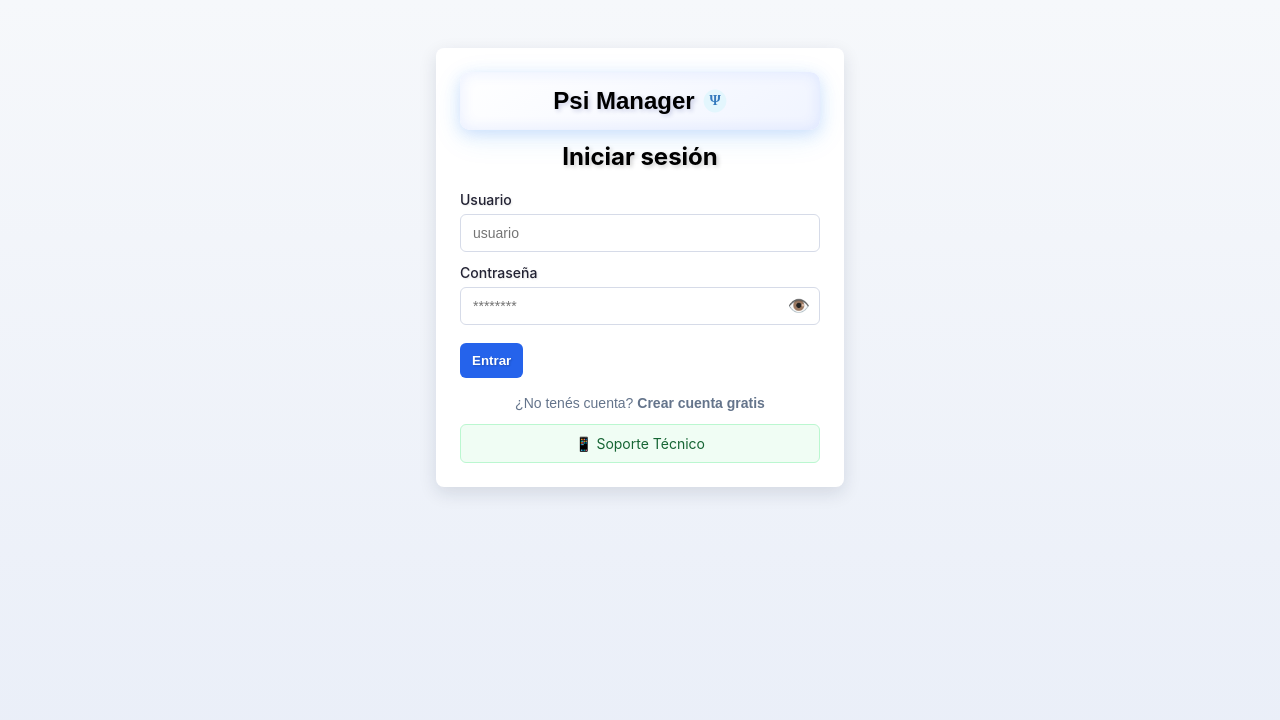
Scenario: Login component › shows error for short username
Type "a" into the field with placeholder "Usuario" at (640, 233), box [460, 214, 820, 252]
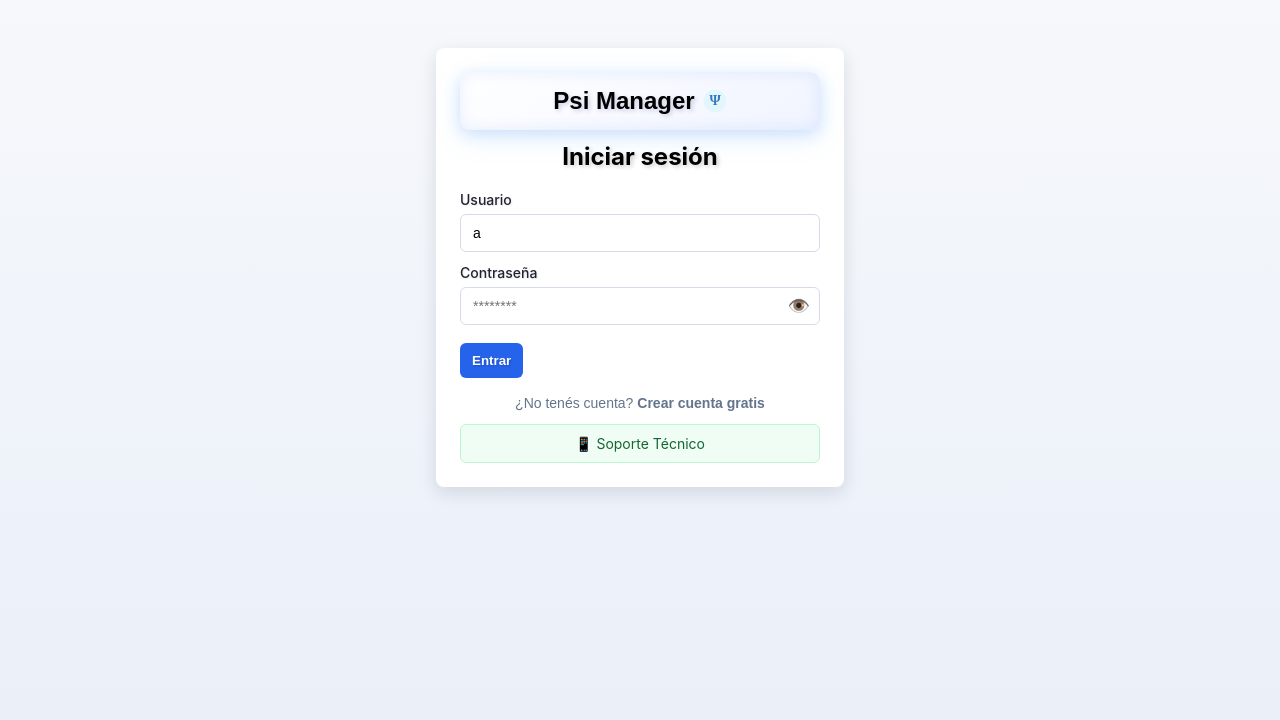
Type "password123" into the password field with placeholder "********" at (640, 306), box [460, 287, 820, 325]
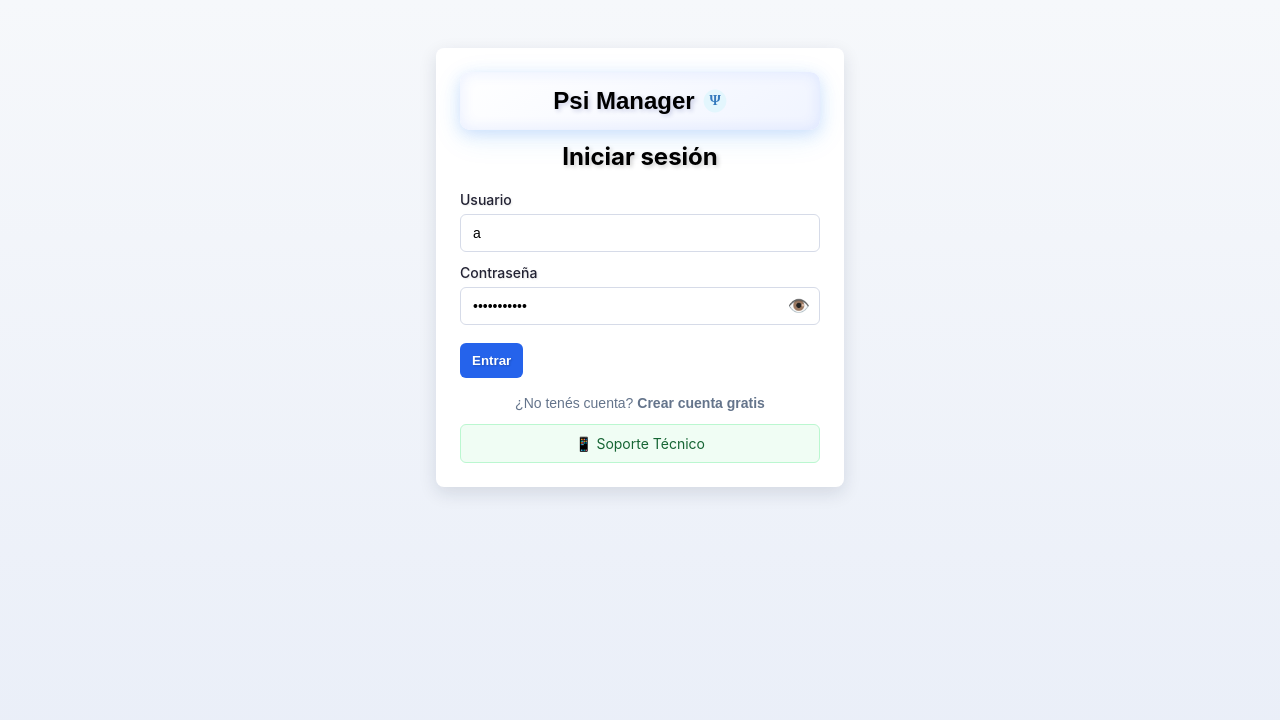
Click the button "Entrar" at (492, 360), box [460, 343, 523, 378]
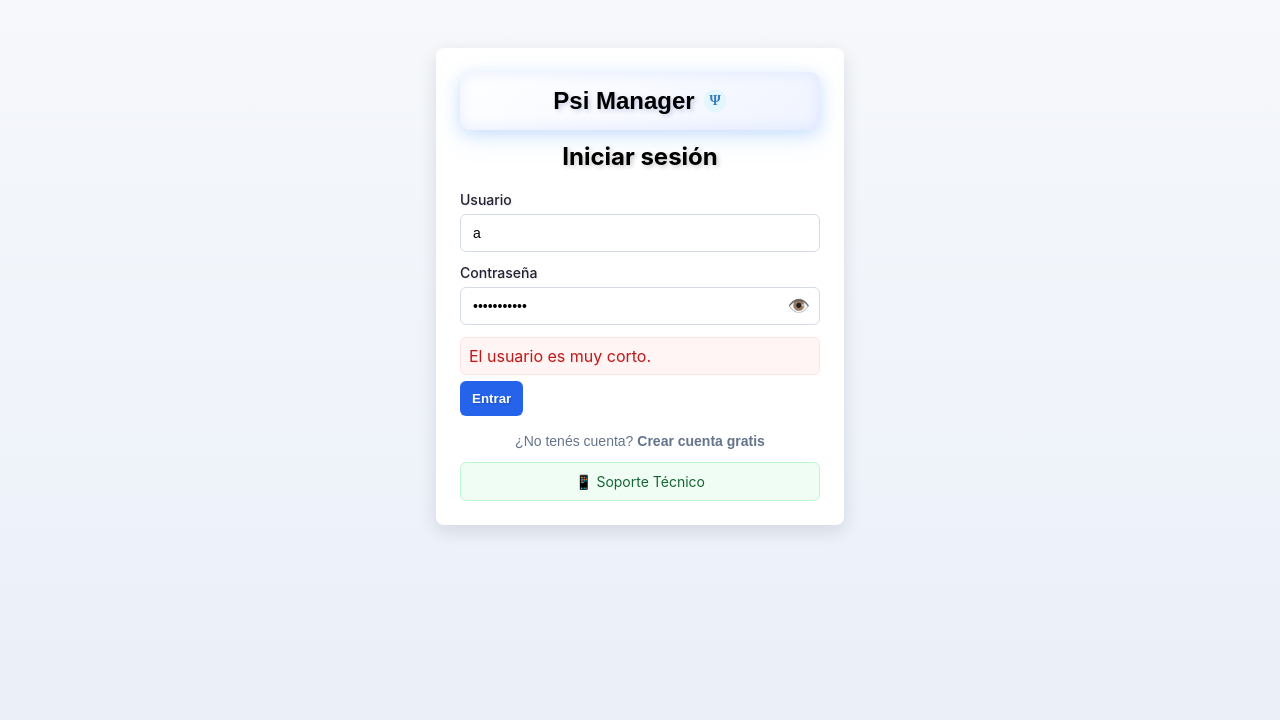
Expected: the text "El usuario es muy corto." is shown, [460, 337, 820, 375]
